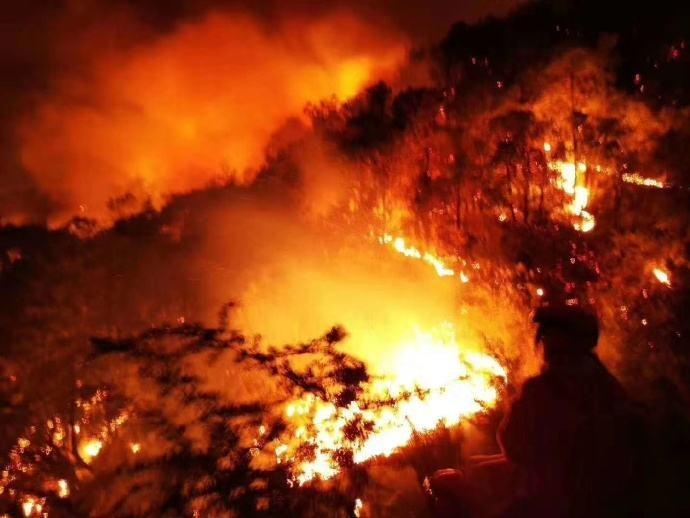fire: (282, 308, 504, 462), (525, 103, 666, 237), (10, 395, 147, 515), (357, 219, 481, 289), (622, 249, 676, 287)
